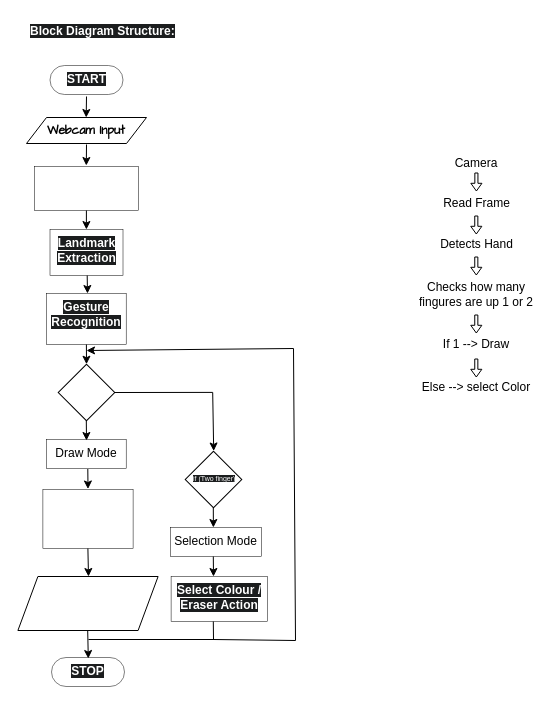
Some shapes in this 552 by 704 pixel diagram are drawn without their labels. Each missing label, with the centre of its shape:
"Drawing / Eraser Action (OpenCV)" goes at (x=87, y=518).
"Hand Detection (MediaPipe)" goes at (x=86, y=188).
"if (One finger)" goes at (x=86, y=392).
"Output on Screen (Canvas Updated in Real Time)" goes at (x=87, y=603).
